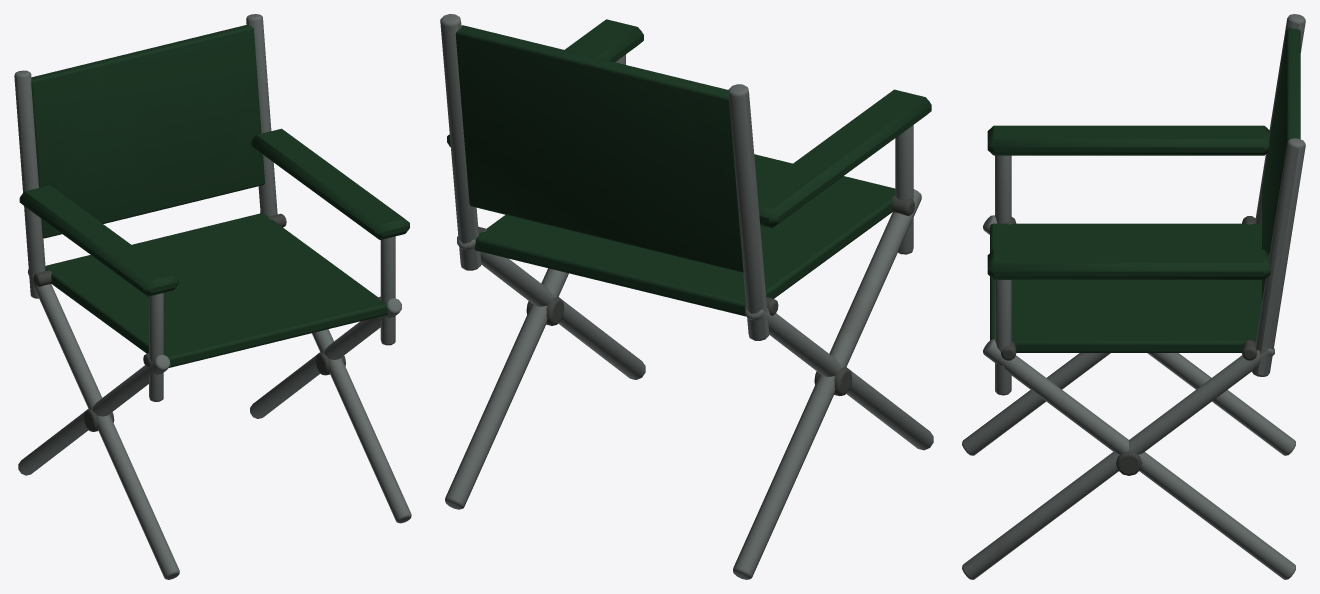
The model's file is level_camp_folding_chair_authored.glb.
3 views of the same model, side by side, from view 1: azimuth 30°, elevation 25°; view 2: azimuth 150°, elevation 25°; view 3: azimuth 270°, elevation 25° (orthographic). The views are drawn at different scales.
Parts seen in each view (by area): view 1: level_camp_folding_chair_authored; view 2: level_camp_folding_chair_authored; view 3: level_camp_folding_chair_authored.
Part boxes in pixels (box(x1,y1,x2,y2)): level_camp_folding_chair_authored: box(14, 14, 411, 579); level_camp_folding_chair_authored: box(440, 14, 933, 579); level_camp_folding_chair_authored: box(962, 14, 1305, 579).
Bounding box in the file's own units: 0.645 × 0.9223 × 0.6554.
1 material, 1 textured.
